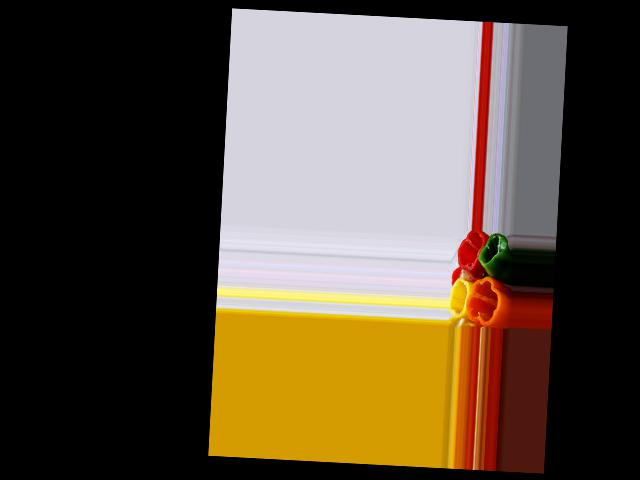bell_pepper: (455, 231, 483, 271)
